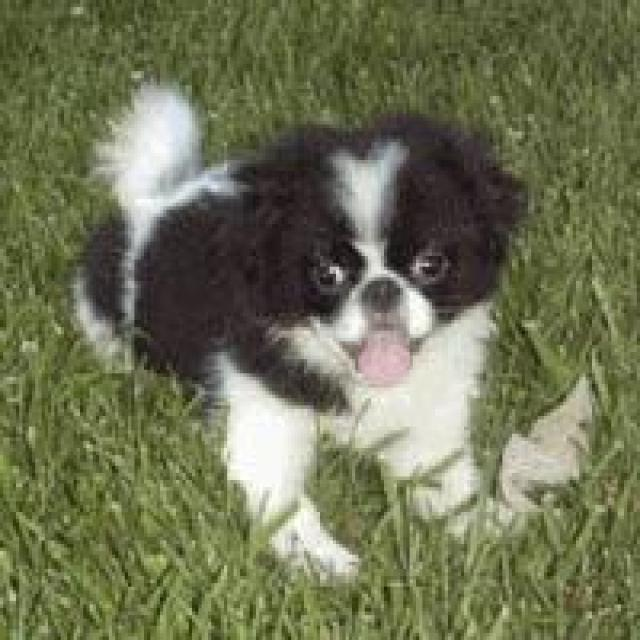husky: (61, 64, 547, 594)
